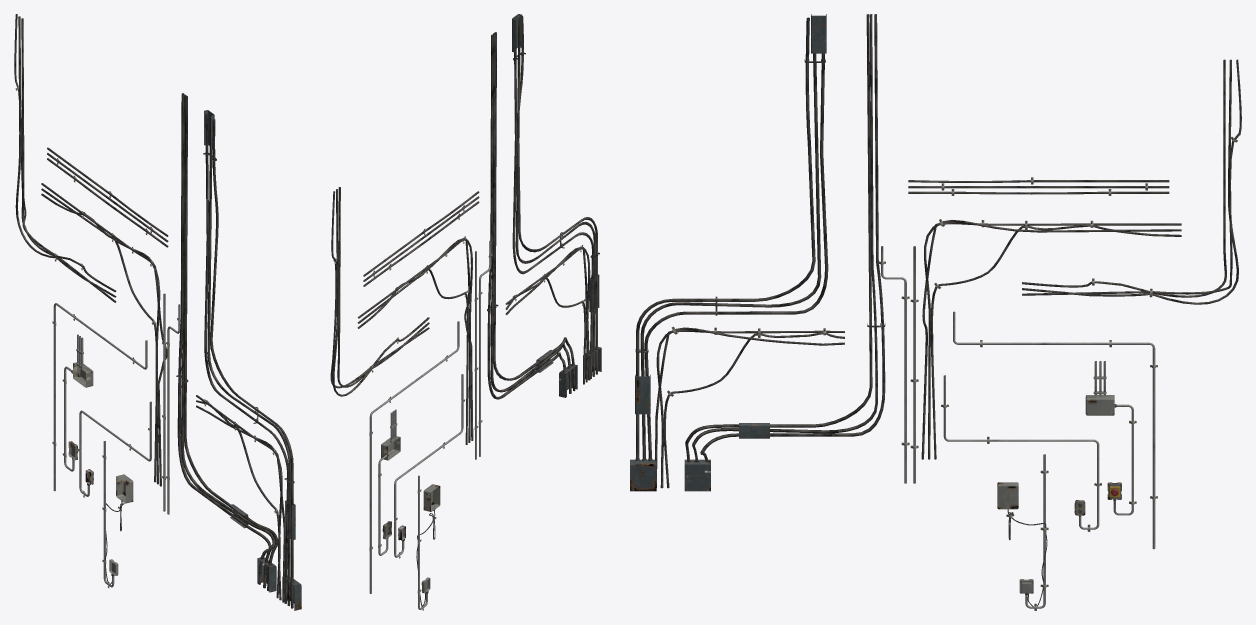
Rendered from poppy_playtime_3_wall_wire_pack1.glb.
3 renders of one model, left to right at view 1: azimuth 30°, elevation 25°; view 2: azimuth 150°, elevation 25°; view 3: azimuth 270°, elevation 25°, orthographic. The views are drawn at different scales.
Parts seen in each view (by area): view 1: SM_WallWire_05.mo, SM_WallWire_01.mo, SM_WallWire_10.mo, SM_WallWire_09.mo, SM_WallWire_11.mo, SM_WallWire_06.mo, SM_WallWire_03.mo, SM_WallWire_04.mo, SM_WallWire_02.mo, SM_WallWire_08.mo, SM_WallWire_07.mo; view 2: SM_WallWire_05.mo, SM_WallWire_01.mo, SM_WallWire_10.mo, SM_WallWire_09.mo, SM_WallWire_11.mo, SM_WallWire_04.mo, SM_WallWire_03.mo, SM_WallWire_02.mo, SM_WallWire_06.mo, SM_WallWire_08.mo, SM_WallWire_07.mo; view 3: SM_WallWire_05.mo, SM_WallWire_01.mo, SM_WallWire_10.mo, SM_WallWire_09.mo, SM_WallWire_11.mo, SM_WallWire_04.mo, SM_WallWire_02.mo, SM_WallWire_03.mo, SM_WallWire_06.mo, SM_WallWire_08.mo, SM_WallWire_07.mo.
Boxes of the visible parts, <box> form: SM_WallWire_05.mo: <box>203,110,301,610</box>; SM_WallWire_01.mo: <box>176,93,277,592</box>; SM_WallWire_10.mo: <box>41,183,167,486</box>; SM_WallWire_09.mo: <box>14,14,116,302</box>; SM_WallWire_11.mo: <box>196,395,285,602</box>; SM_WallWire_06.mo: <box>162,293,180,514</box>; SM_WallWire_03.mo: <box>102,441,133,588</box>; SM_WallWire_04.mo: <box>47,147,168,247</box>; SM_WallWire_02.mo: <box>62,334,93,471</box>; SM_WallWire_08.mo: <box>52,303,147,491</box>; SM_WallWire_07.mo: <box>78,401,151,497</box>; SM_WallWire_05.mo: <box>512,14,601,380</box>; SM_WallWire_01.mo: <box>487,32,577,399</box>; SM_WallWire_10.mo: <box>357,236,473,444</box>; SM_WallWire_09.mo: <box>330,187,429,396</box>; SM_WallWire_11.mo: <box>505,245,590,384</box>; SM_WallWire_04.mo: <box>363,191,479,286</box>; SM_WallWire_03.mo: <box>416,475,440,610</box>; SM_WallWire_02.mo: <box>378,409,400,555</box>; SM_WallWire_06.mo: <box>474,240,492,459</box>; SM_WallWire_08.mo: <box>369,321,459,593</box>; SM_WallWire_07.mo: <box>394,374,464,558</box>; SM_WallWire_05.mo: <box>630,14,828,491</box>; SM_WallWire_01.mo: <box>684,14,885,491</box>; SM_WallWire_10.mo: <box>921,219,1181,459</box>; SM_WallWire_09.mo: <box>1022,59,1241,304</box>; SM_WallWire_11.mo: <box>655,326,844,488</box>; SM_WallWire_04.mo: <box>908,177,1169,195</box>; SM_WallWire_02.mo: <box>1085,361,1136,515</box>; SM_WallWire_03.mo: <box>997,454,1048,610</box>; SM_WallWire_06.mo: <box>879,246,918,483</box>; SM_WallWire_08.mo: <box>953,311,1157,549</box>; SM_WallWire_07.mo: <box>941,375,1101,531</box>.
Size of the model in its own units: 0.1688 by 7.57 by 7.03.
Materials: 11 (11 with a texture image).
